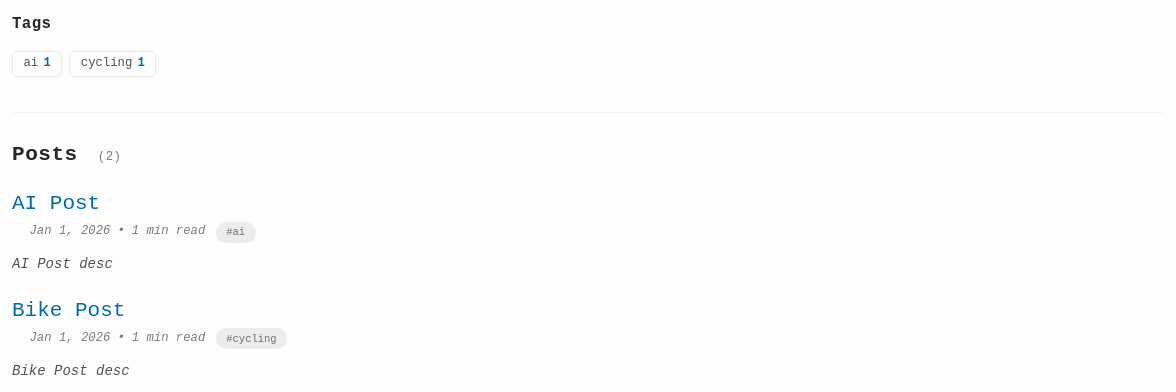
Test: TagFilter › filters posts when a tag is selected
Click the button "ai 1" at (37, 64), box [12,50,62,77]
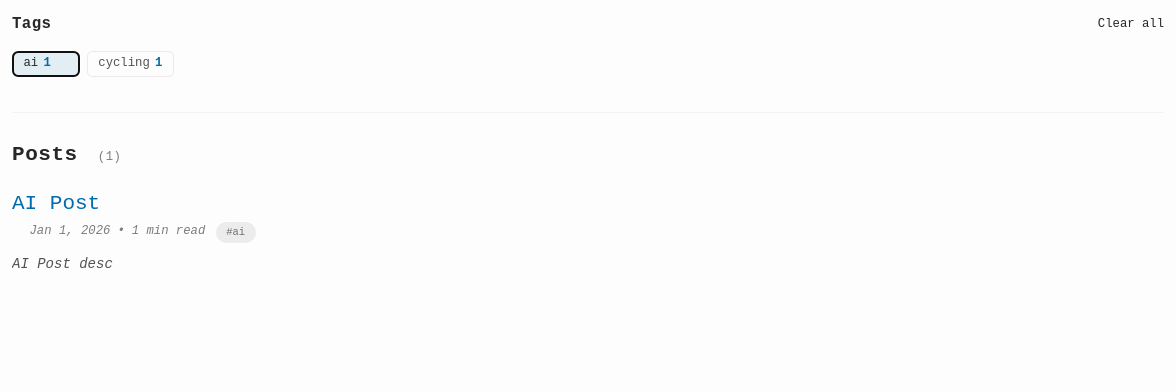
Check: the link "AI Post" is shown, box [12,190,100,218]
Check: the link "Bike Post" is gone
